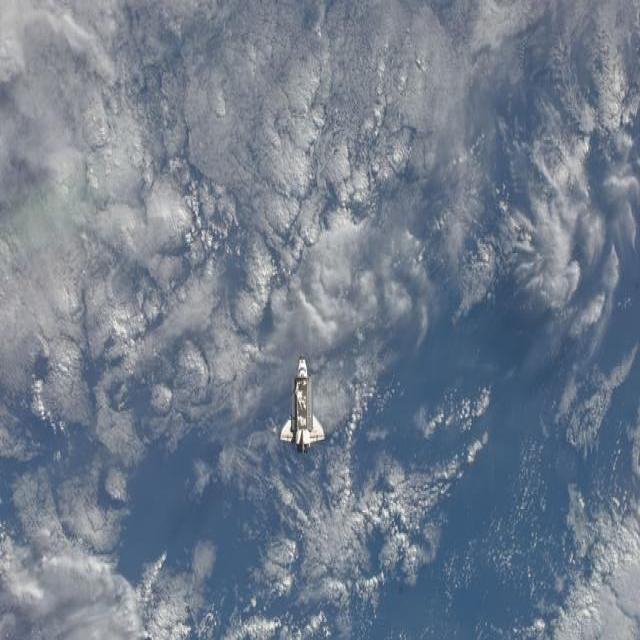medium_debris: (280, 358, 325, 451)
